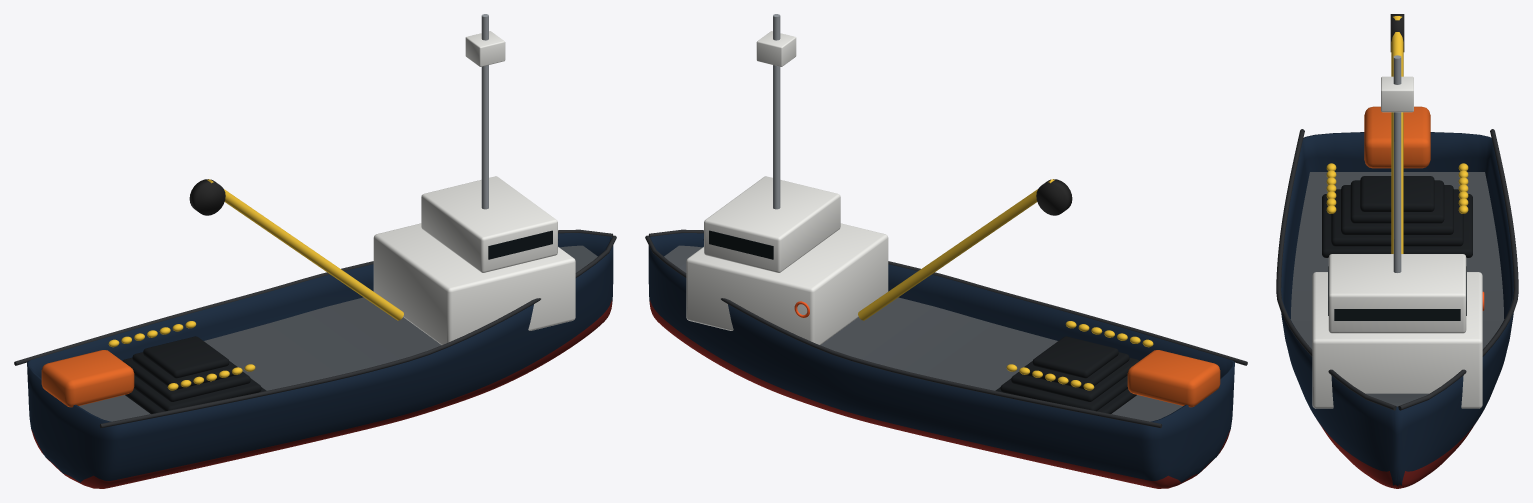
Rendered from seiner.glb.
3 renders of one model, left to right at view 1: azimuth 30°, elevation 25°; view 2: azimuth 150°, elevation 25°; view 3: azimuth 270°, elevation 25°, orthographic. The views are drawn at different scales.
Parts seen in each view (by area): view 1: hull, wheelhouse, deck, wh_upper, seine_skiff, gunwale.001, boom, net_pile.004, gunwale, net_pile.002, net_pile.001, mast (+4 smaller); view 2: hull, wheelhouse, deck, wh_upper, seine_skiff, gunwale, boom, net_pile.004, gunwale.001, net_pile.002, net_pile.001, mast (+4 smaller); view 3: hull, wheelhouse, wh_upper, deck, seine_skiff, net_pile.004, net_pile.001, net_pile, net_pile.002, gunwale, gunwale.001, mast (+5 smaller).
Boxes of the visible parts, bbox=[...] form: hull: bbox=[27, 233, 613, 488]; wheelhouse: bbox=[373, 223, 575, 344]; deck: bbox=[79, 245, 597, 421]; wh_upper: bbox=[421, 176, 557, 272]; seine_skiff: bbox=[41, 350, 134, 407]; gunwale.001: bbox=[99, 235, 616, 428]; boom: bbox=[207, 179, 403, 320]; net_pile.004: bbox=[143, 336, 229, 378]; gunwale: bbox=[14, 229, 613, 365]; net_pile.002: bbox=[122, 357, 250, 401]; net_pile.001: bbox=[134, 375, 261, 411]; mast: bbox=[481, 14, 488, 209]; hull: bbox=[648, 233, 1234, 488]; wheelhouse: bbox=[686, 223, 888, 344]; deck: bbox=[664, 245, 1182, 421]; wh_upper: bbox=[704, 176, 840, 272]; seine_skiff: bbox=[1127, 350, 1220, 407]; gunwale: bbox=[645, 235, 1162, 428]; boom: bbox=[858, 179, 1054, 320]; net_pile.004: bbox=[1032, 336, 1118, 378]; gunwale.001: bbox=[648, 229, 1247, 365]; net_pile.002: bbox=[1011, 357, 1139, 401]; net_pile.001: bbox=[1000, 375, 1127, 411]; mast: bbox=[773, 14, 780, 209]; hull: bbox=[1281, 132, 1513, 488]; wheelhouse: bbox=[1312, 272, 1482, 408]; wh_upper: bbox=[1328, 254, 1466, 333]; deck: bbox=[1290, 172, 1504, 406]; seine_skiff: bbox=[1364, 106, 1430, 168]; net_pile.004: bbox=[1360, 176, 1434, 211]; net_pile.001: bbox=[1331, 189, 1463, 246]; net_pile: bbox=[1322, 194, 1472, 257]; net_pile.002: bbox=[1341, 185, 1453, 234]; gunwale: bbox=[1398, 129, 1518, 410]; gunwale.001: bbox=[1276, 129, 1396, 410]; mast: bbox=[1393, 55, 1401, 272].
Size of the model in its own units: 26.27 by 16.1 by 8.82.
